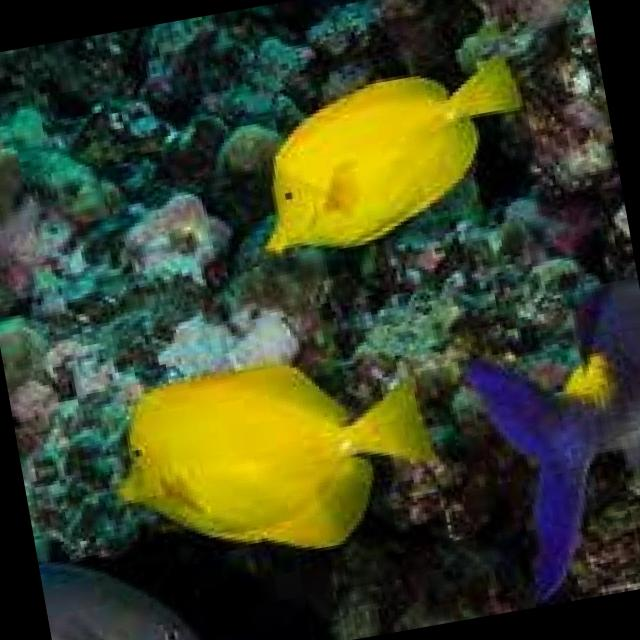TangFish: (92, 330, 448, 584), (242, 48, 548, 262)
